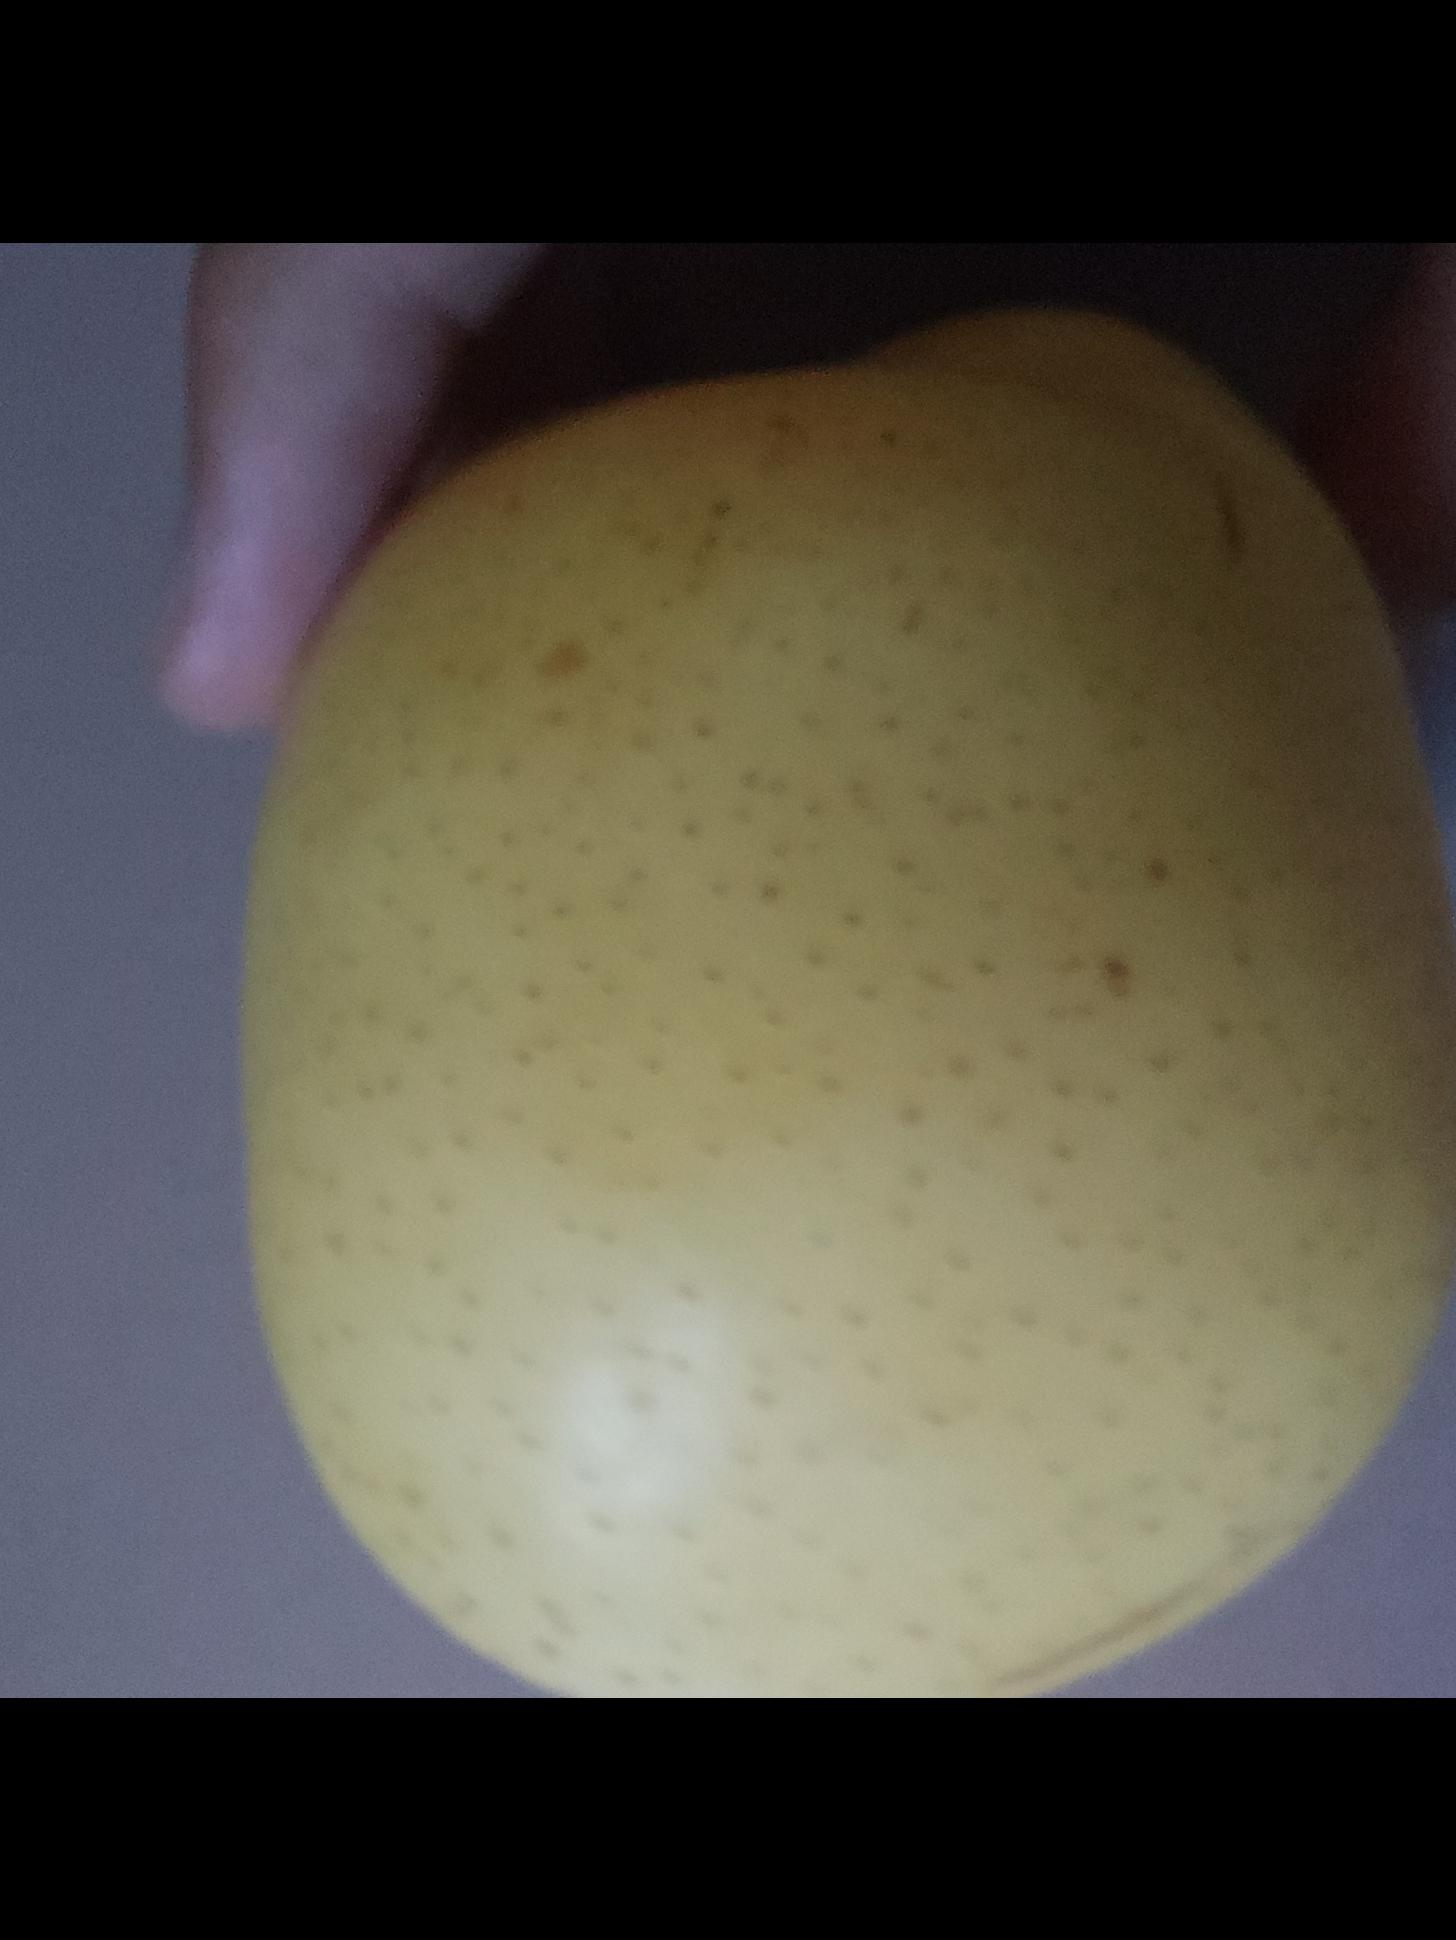Good Pear: (143, 729, 1456, 1698)
